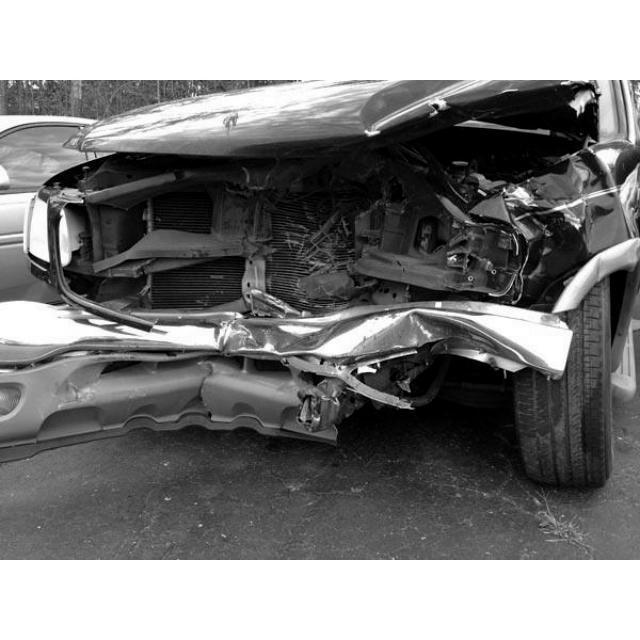Rear-windscreen-Damage: (69, 306, 544, 377)
